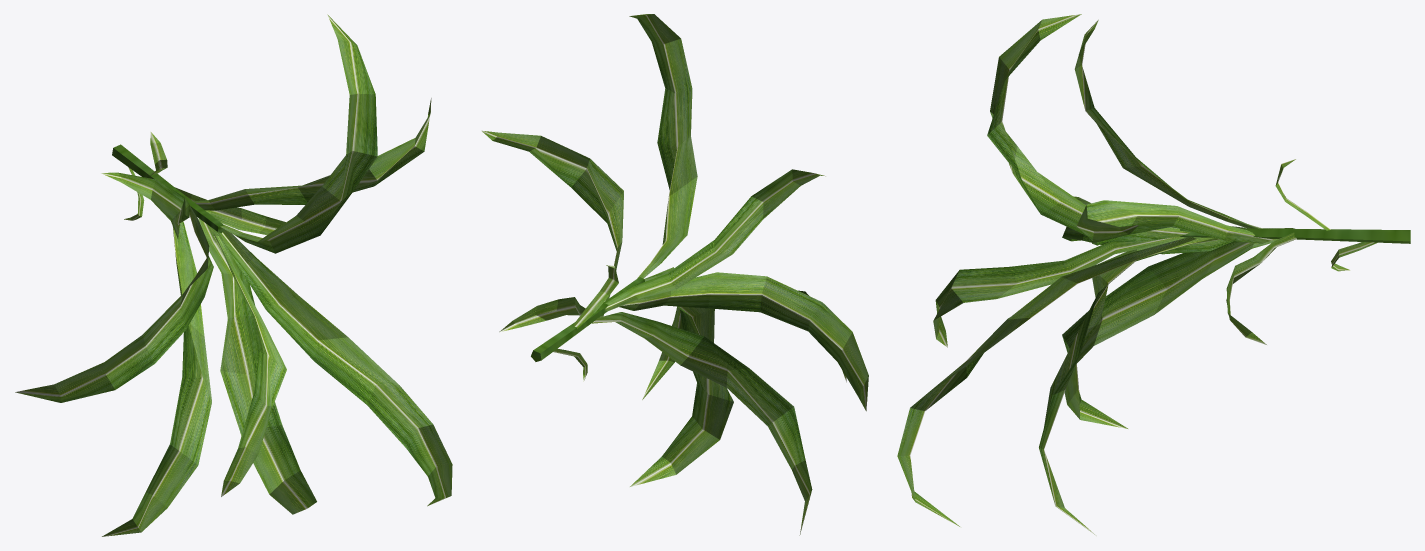
The model's file is maize_big_3.obj.
3 renders of one model, left to right at view 1: azimuth 30°, elevation 25°; view 2: azimuth 150°, elevation 25°; view 3: azimuth 270°, elevation 25°, orthographic. The views are drawn at different scales.
Visible parts, largest first — view 1: maize_big_unit.002_Plane.009; view 2: maize_big_unit.002_Plane.009; view 3: maize_big_unit.002_Plane.009.
Part boxes in pixels (box(x1,y1,x2,y2)): maize_big_unit.002_Plane.009: box(15, 14, 452, 536); maize_big_unit.002_Plane.009: box(481, 14, 868, 535); maize_big_unit.002_Plane.009: box(897, 14, 1410, 535).
Bounding box in the file's own units: 0.4923 × 0.5625 × 0.4965.
Materials: 1 (1 with a texture image).
